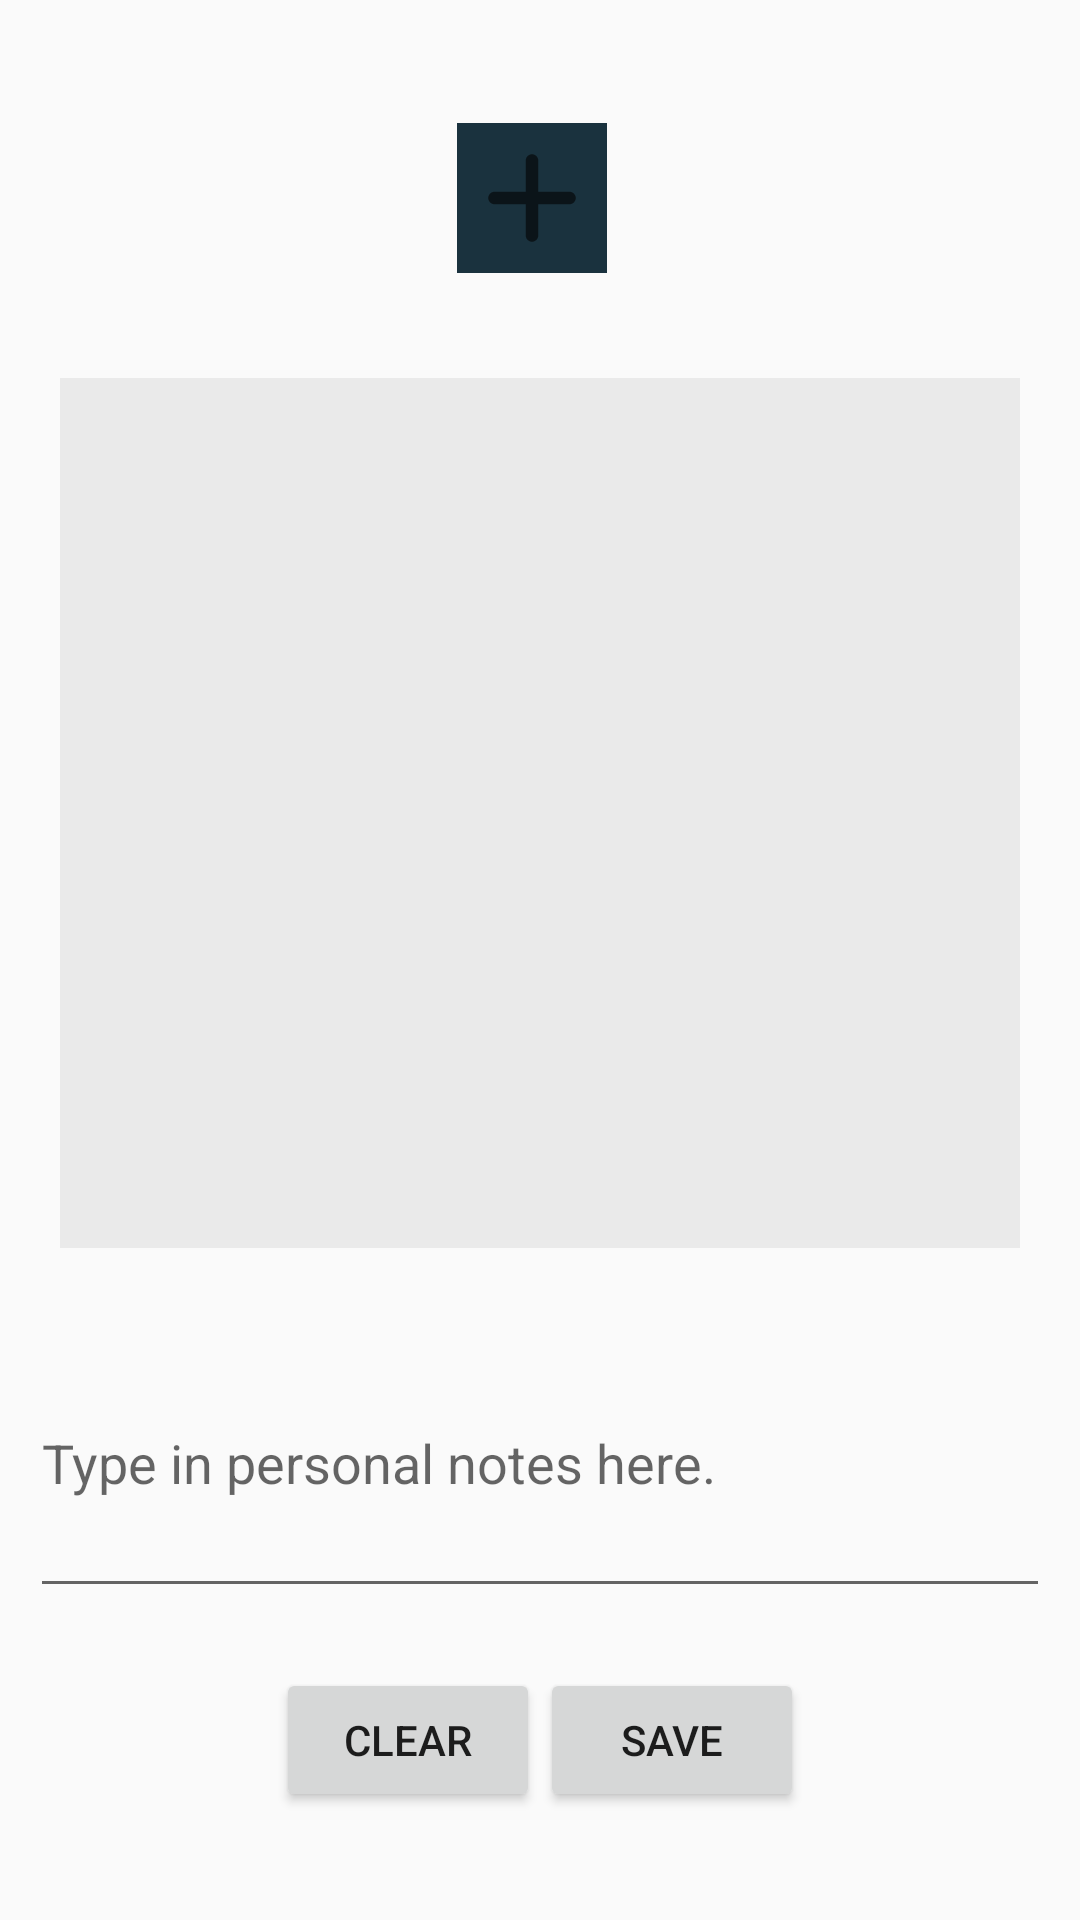

Screen size 1080×1920. Icon name, then its box in pixels as bbox(x1, y1, x2, y2):
add: bbox(457, 123, 607, 273)
